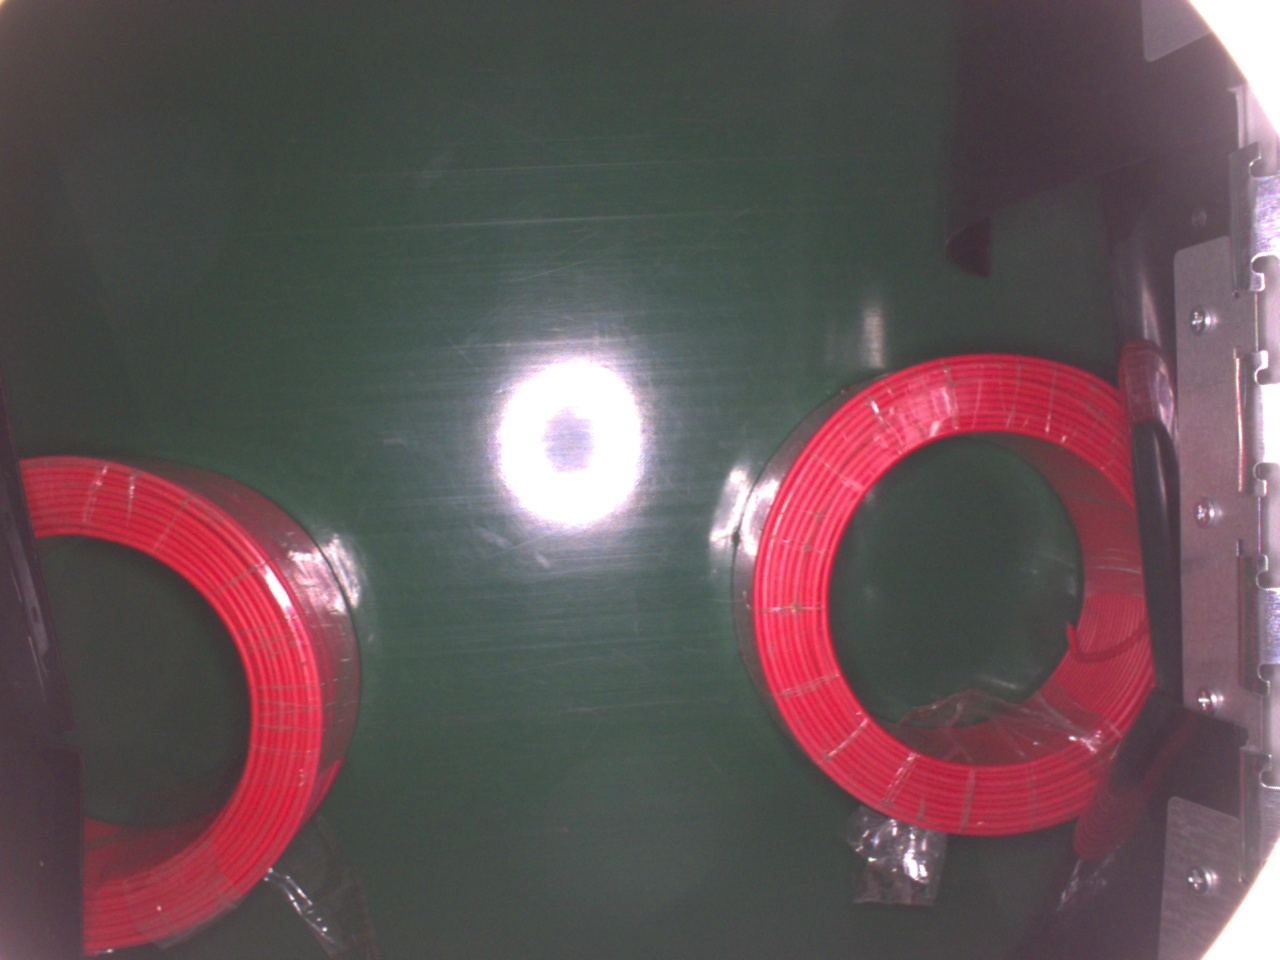red: (730, 348, 1151, 843), (10, 441, 363, 954)
